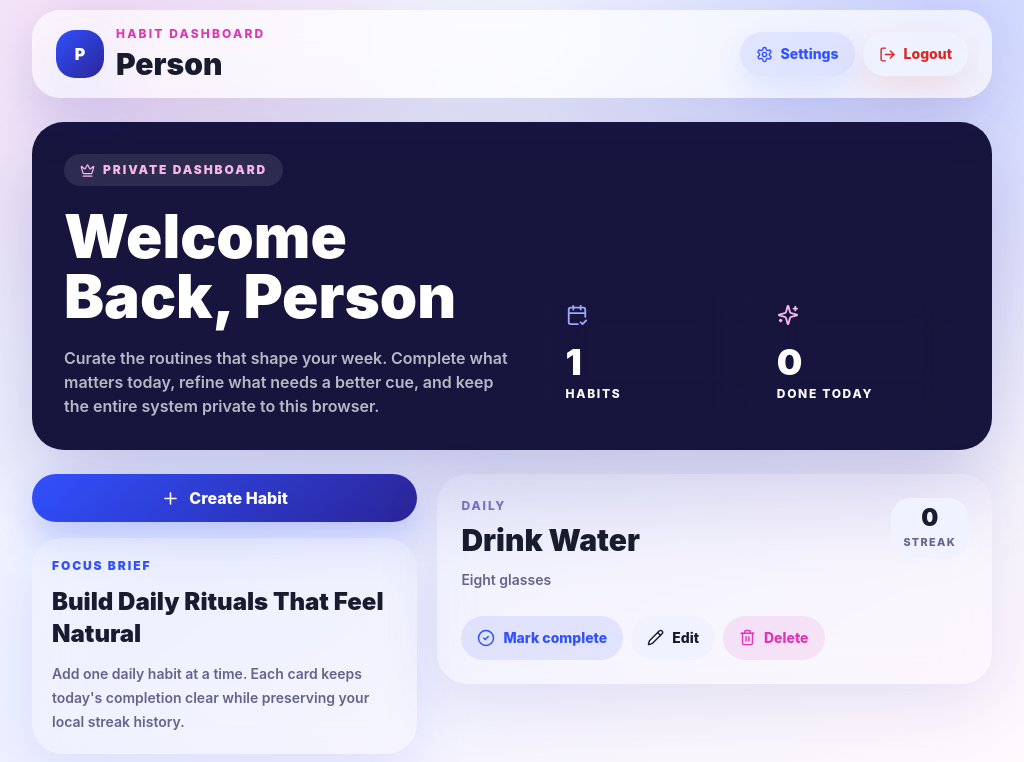
habit form › edits an existing habit and preserves immutable fields
Step 1. Click the button with test id "habit-edit-drink-water" → point(673, 638), box 631,616 -> 715,660
(page scrolled)
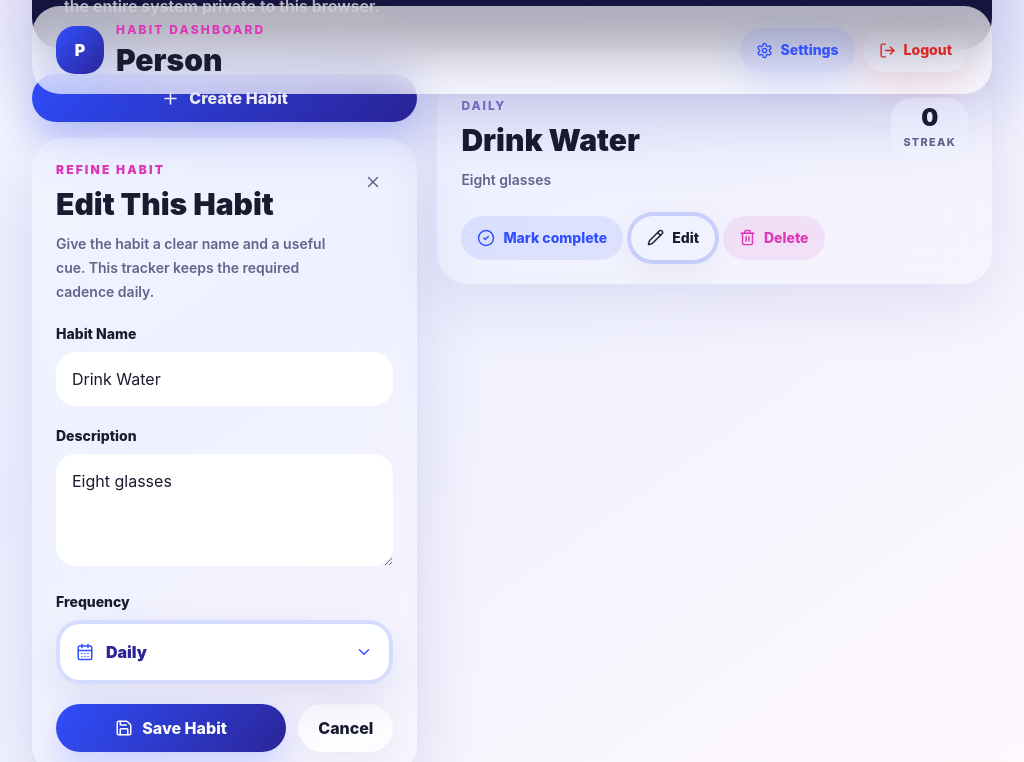
Step 2. Replace the text in the field with test id "habit-name-input" with "Read Books" → point(225, 379), box 56,352 -> 393,406
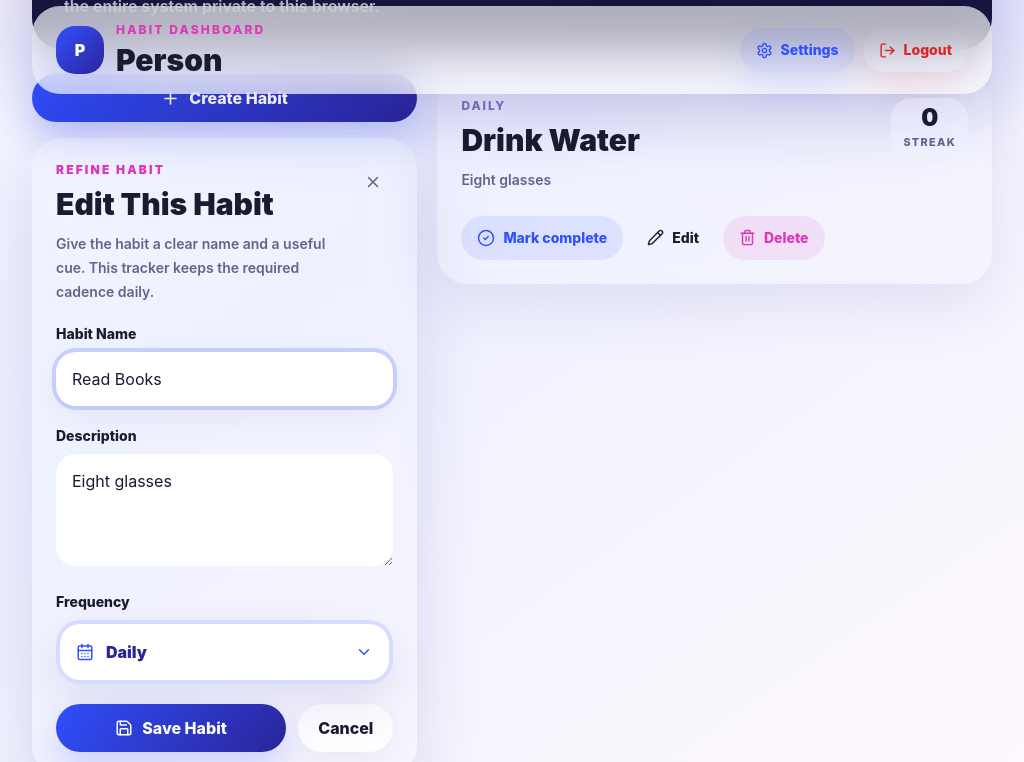
Step 3. Replace the text in the text box with test id "habit-description-input" with "Ten pages" → point(225, 510), box 56,454 -> 393,566
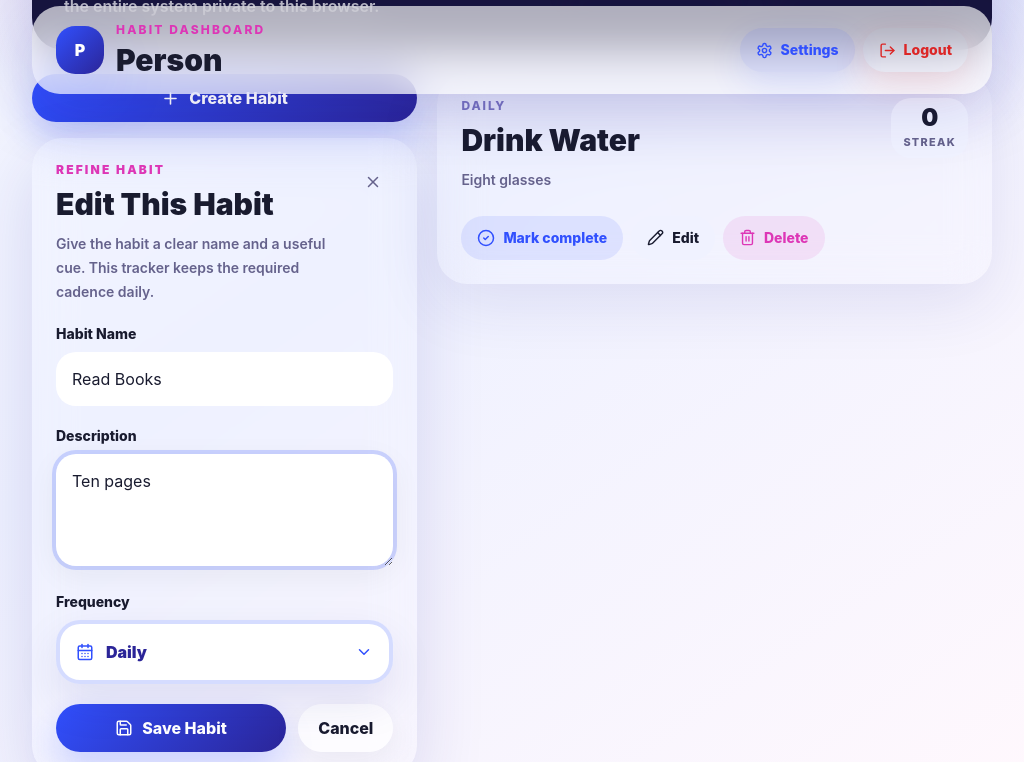
Step 4. Click the button with test id "habit-frequency-select" → point(126, 652), box 56,620 -> 393,684
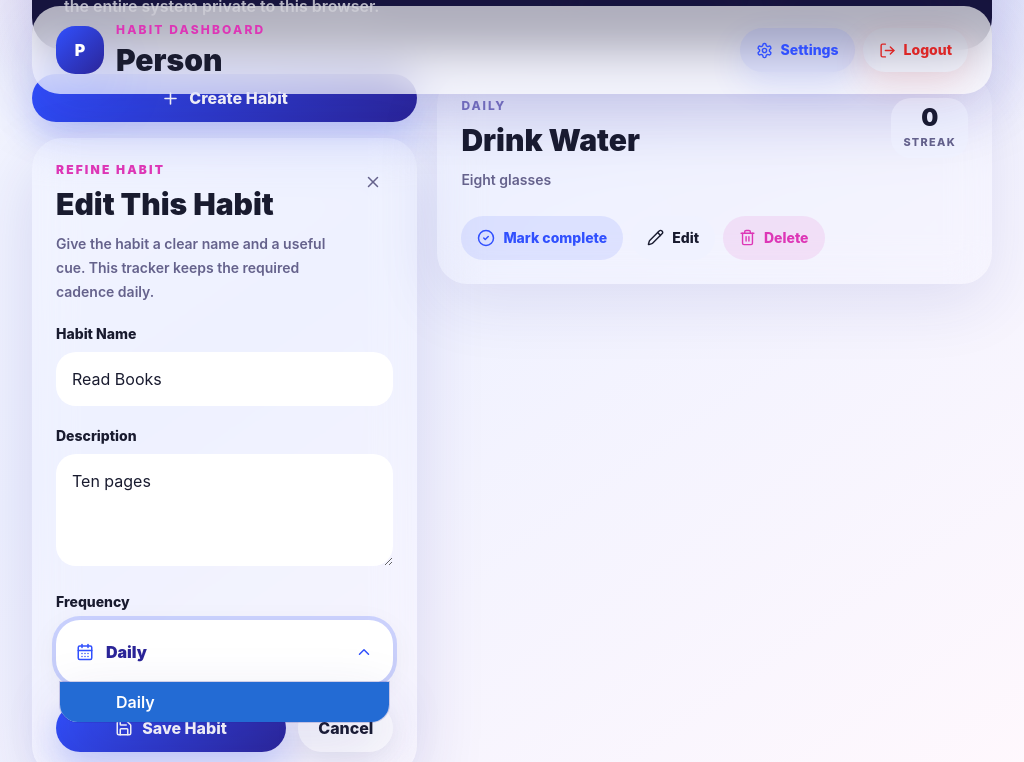
Step 5. Click the option with test id "habit-frequency-option-daily" → point(135, 702), box 60,682 -> 389,722
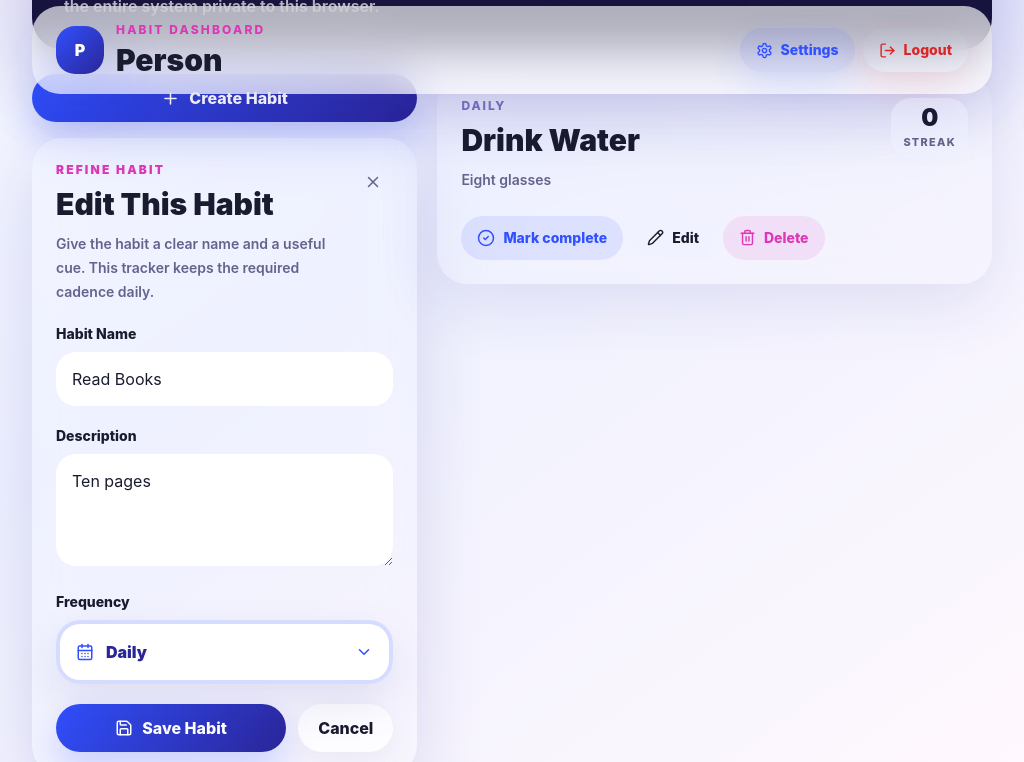
Step 6. Click the button with test id "habit-save-button" → point(171, 728), box 56,704 -> 286,752
(page scrolled)
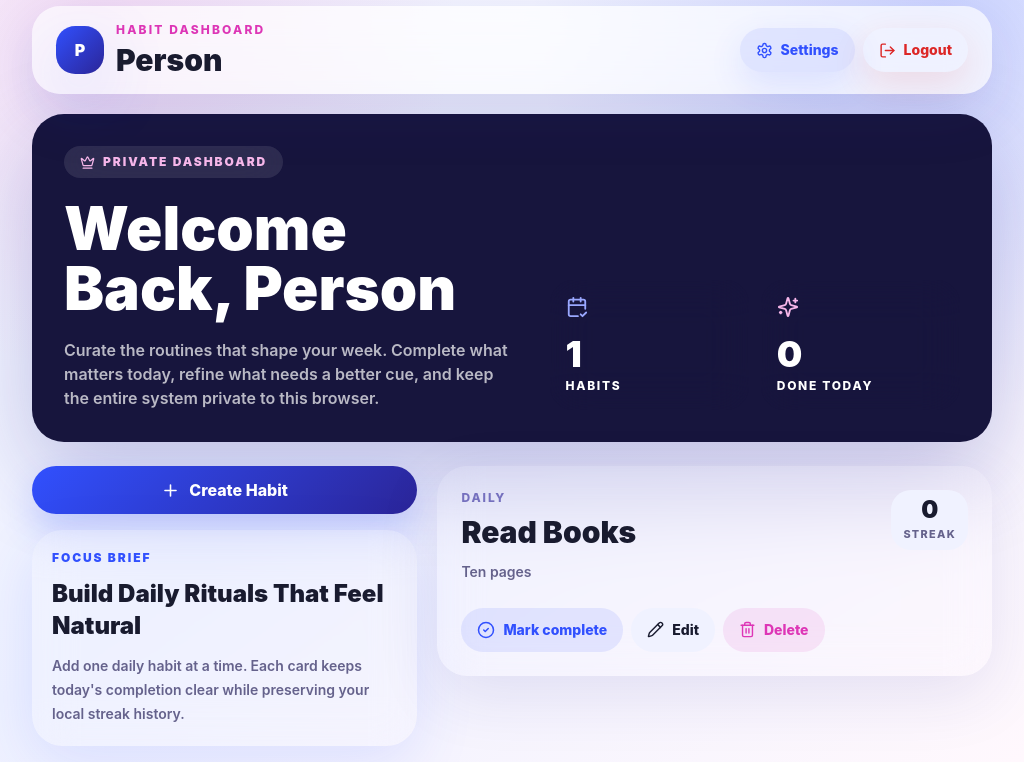
Check: the element with test id "habit-card-read-books" is shown, box 437,466 -> 992,676
